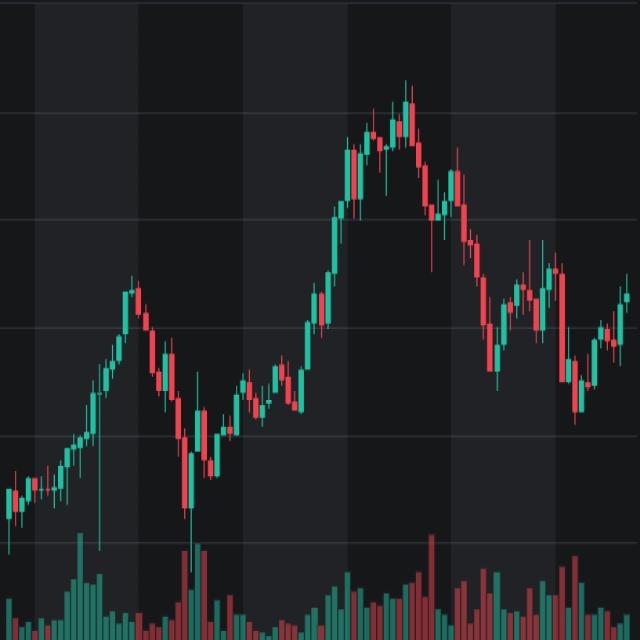Resistance-Emerging: (484, 226, 640, 436)
Resistance-breakout: (67, 134, 355, 531)
